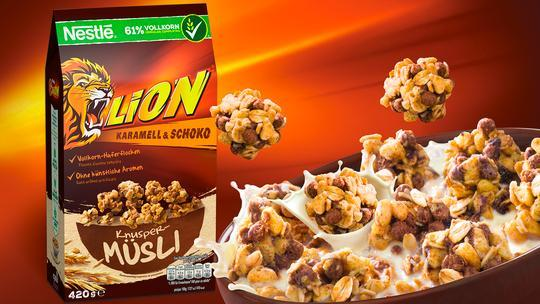cereals: (45, 3, 220, 304)
